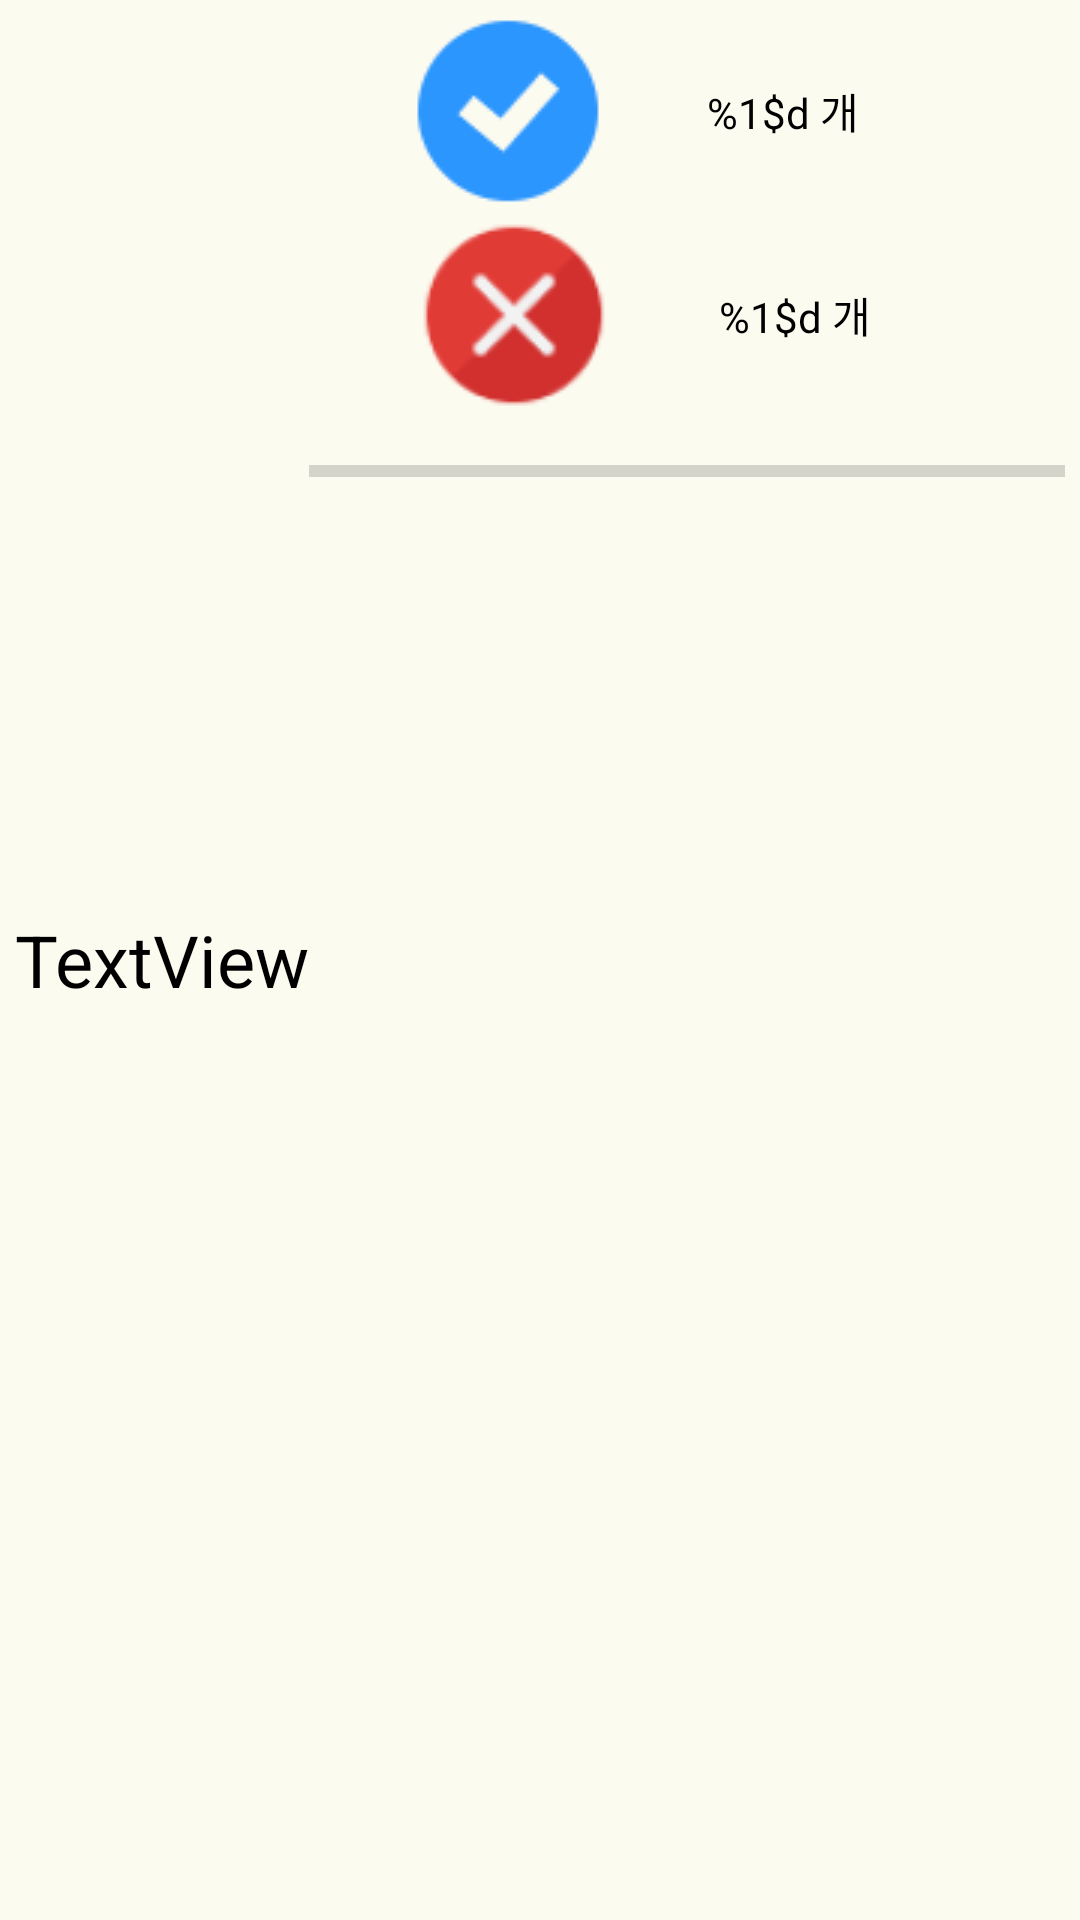

Screen size 1080px x 1920px. Icon name, then its box in pixels as (x1, y1, x2, y2):
check: (417, 20, 599, 202)
fail: (424, 225, 604, 405)
